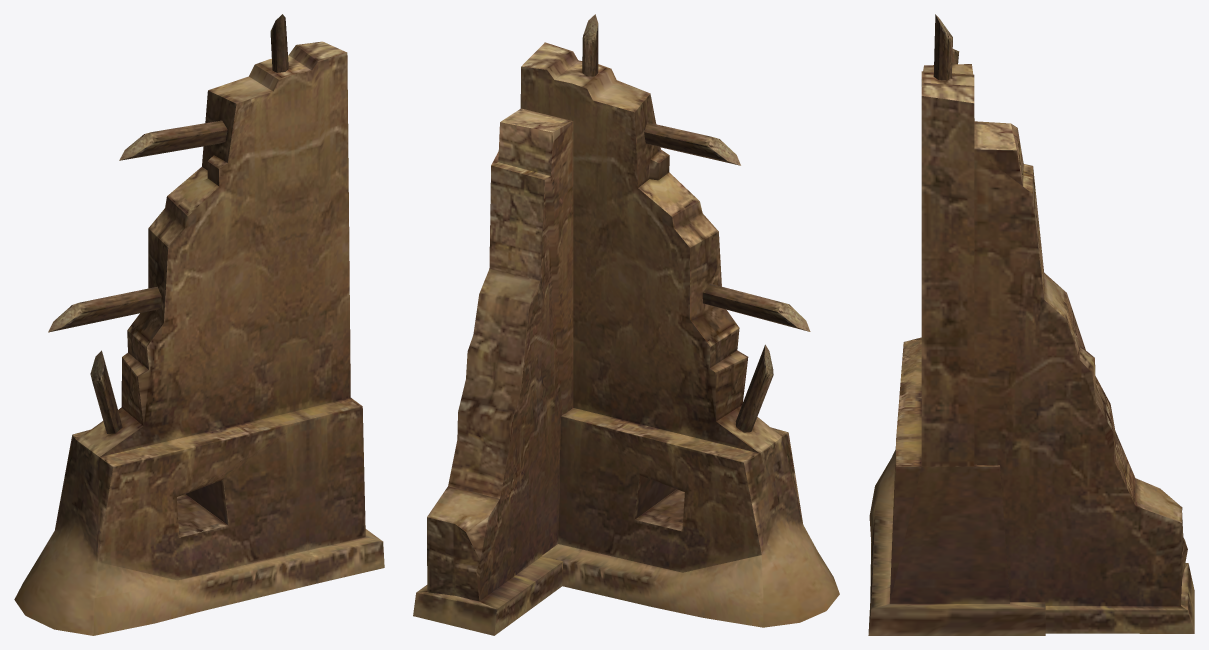
Rendered from Other_3.FBX.
3 views of the same model, side by side, from view 1: azimuth 30°, elevation 25°; view 2: azimuth 150°, elevation 25°; view 3: azimuth 270°, elevation 25° (orthographic). The views are drawn at different scales.
Visible parts, largest first — view 1: Other_3; view 2: Other_3; view 3: Other_3.
Boxes of the visible parts, left/top/right/bottom form: Other_3: left=14, top=14, right=384, bottom=635; Other_3: left=413, top=14, right=839, bottom=635; Other_3: left=868, top=14, right=1194, bottom=635.
Size of the model in its own units: 202 by 332 by 168.
